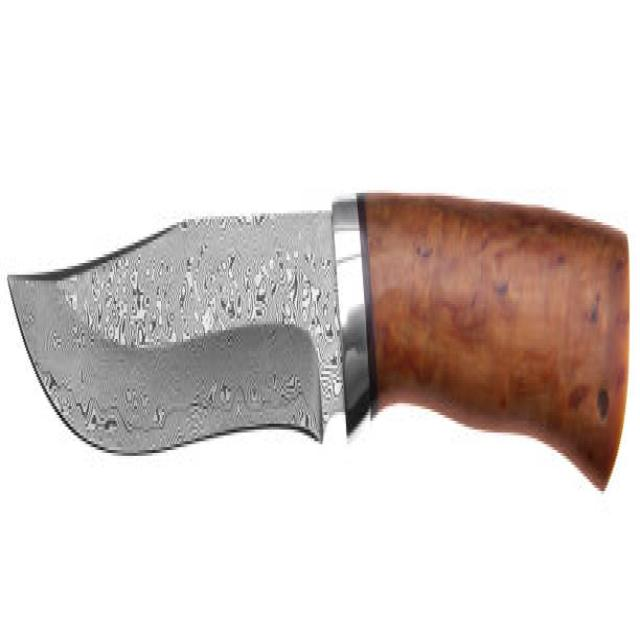knife: (6, 183, 633, 505)
